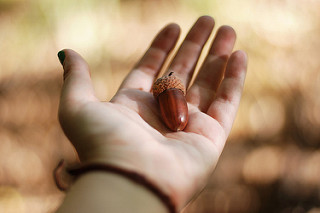palm: (100, 83, 212, 191)
